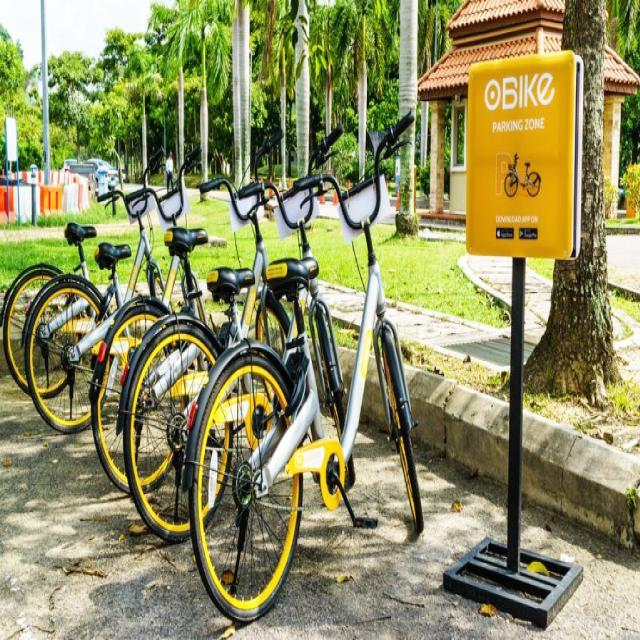bike: (182, 110, 425, 623), (116, 124, 356, 544), (88, 130, 310, 497), (21, 145, 213, 434), (1, 145, 173, 399)
